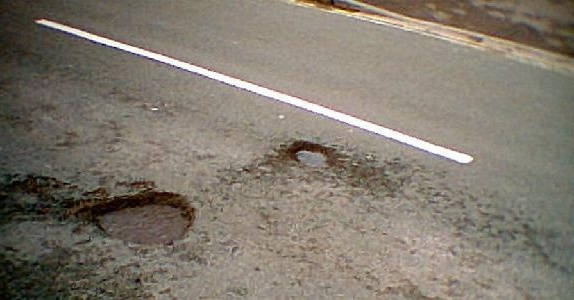pothole: (89, 188, 196, 250), (285, 137, 338, 173)
